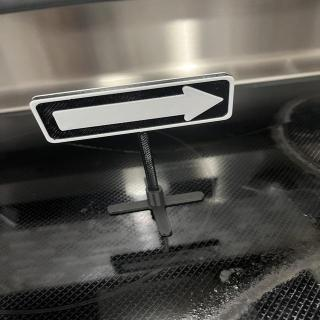sign_oneway_right: (30, 73, 237, 145)
